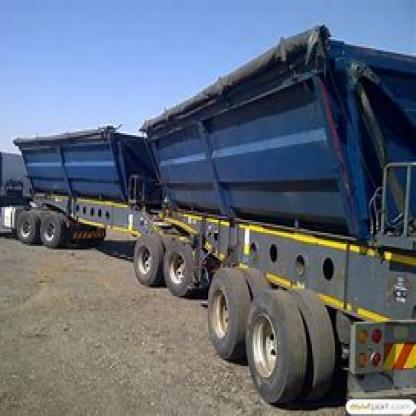dump_truck: (9, 33, 415, 401)
